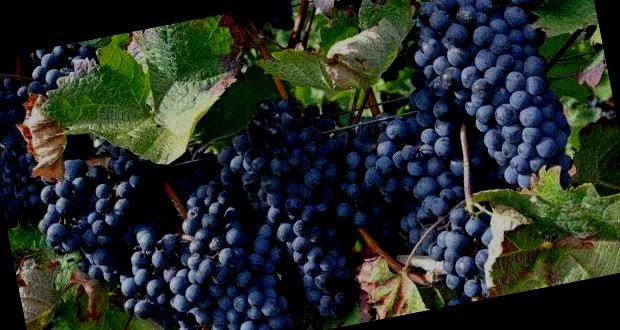Grape Ripe: (232, 98, 383, 325), (422, 0, 576, 190), (124, 196, 307, 330), (338, 100, 466, 260), (403, 73, 519, 236), (40, 146, 166, 288), (150, 165, 260, 296), (422, 187, 516, 296), (0, 54, 45, 210)
